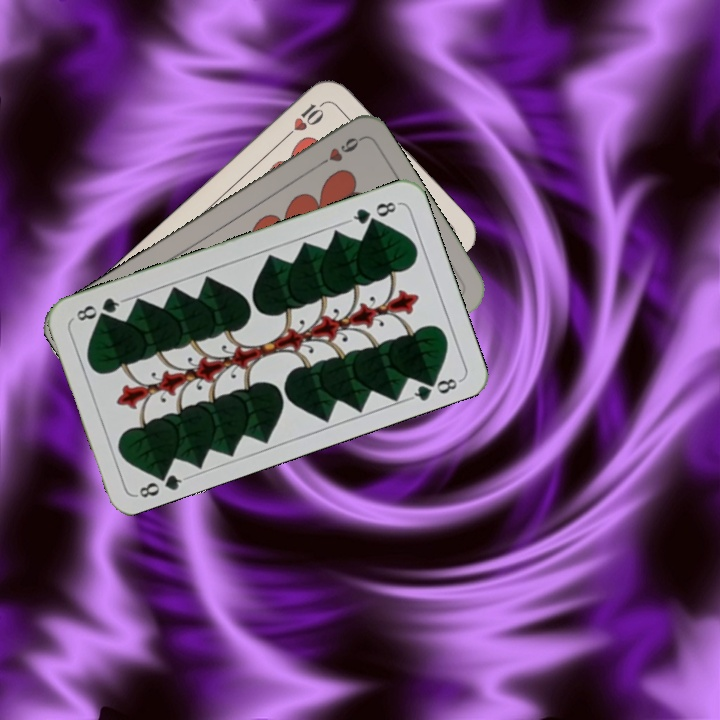G8: (133, 465, 190, 501), (344, 197, 402, 227)
H10: (281, 97, 329, 141)
H9: (311, 133, 364, 171)
